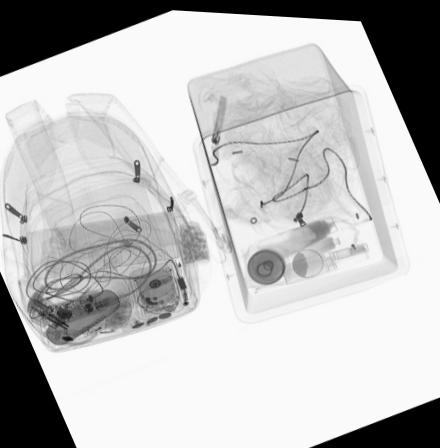Lighter: (80, 314, 119, 336)
